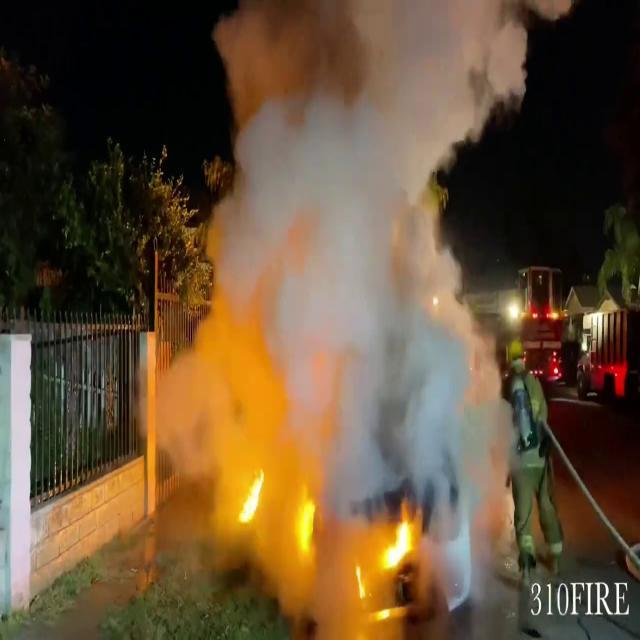Fire: (376, 497, 426, 581), (231, 462, 270, 532)
Smoke: (158, 0, 524, 481)
